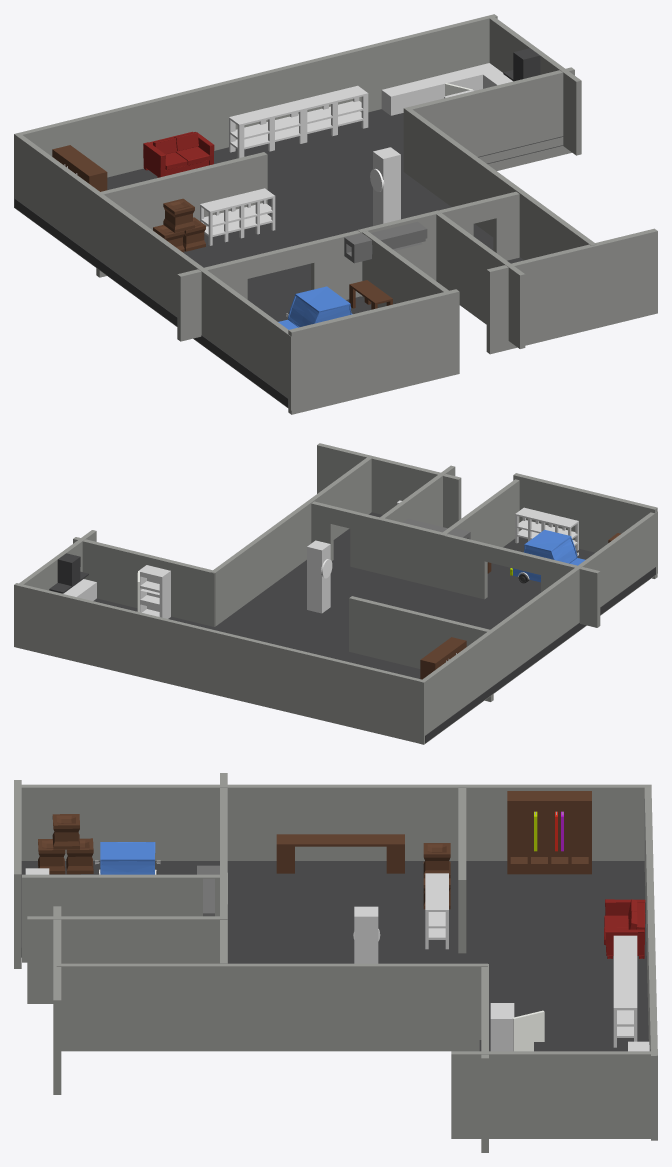
Rendered from gamemap.fbx.
3 renders of one model, top to bottom at view 1: azimuth 30°, elevation 25°; view 2: azimuth 150°, elevation 25°; view 3: azimuth 270°, elevation 25°, orthographic. The views are drawn at different scales.
Parts seen in each view (by area): view 1: Cube, Cube.003, Cube.001, Cube.007, Cube.008, Cube.010, Cube.002, Cube.048, Cube.049, Cube.004, Cube.011, Cube.005 (+14 smaller); view 2: Cube.003, Cube, Cube.001, Cube.048, Cube.002, Cube.010, Cube.049, Cube.007, Cube.008, Cube.047, Cube.005, Cube.004 (+7 smaller); view 3: Cube, Cube.002, Cube.001, Cube.011, Cube.004, Cube.005, Cube.003, Cube.050, Cube.054, Cube.052, mesh_node.012, Cube.053 (+16 smaller).
Boxes of the visible parts, box(x1,y1,x2,y2) form: Cube: box(14, 109, 563, 407); Cube.003: box(19, 14, 497, 177); Cube.001: box(14, 133, 291, 410); Cube.007: box(288, 289, 459, 414); Cube.008: box(486, 228, 657, 354); Cube.010: box(403, 67, 574, 171); Cube.002: box(404, 107, 596, 260); Cube.048: box(177, 230, 360, 341); Cube.049: box(96, 152, 267, 277); Cube.004: box(436, 213, 525, 348); Cube.011: box(489, 17, 581, 155); Cube.005: box(362, 231, 448, 307); Cube.003: box(14, 583, 421, 743); Cube: box(93, 512, 655, 743); Cube.001: box(419, 511, 657, 744); Cube.048: box(400, 525, 600, 627); Cube.002: box(211, 456, 373, 626); Cube.010: box(73, 537, 214, 626); Cube.049: box(349, 596, 493, 701); Cube.007: box(513, 473, 657, 578); Cube.008: box(317, 443, 461, 528); Cube.047: box(311, 501, 379, 573); Cube.005: box(443, 479, 519, 547); Cube.004: box(380, 465, 455, 526); Cube: box(21, 861, 648, 1051); Cube.002: box(56, 963, 487, 1051); Cube.001: box(21, 784, 651, 860); Cube.011: box(451, 1051, 650, 1138); Cube.004: box(27, 916, 219, 1003); Cube.005: box(22, 874, 219, 962); Cube.003: box(644, 787, 657, 1140); Cube.050: box(276, 834, 404, 873); Cube.054: box(568, 791, 591, 874); Cube.052: box(507, 791, 530, 874); mesh_node.012: box(100, 842, 155, 874); Cube.053: box(527, 791, 551, 874).
Bounding box in the file's own units: 5689 × 1002 × 5434.
